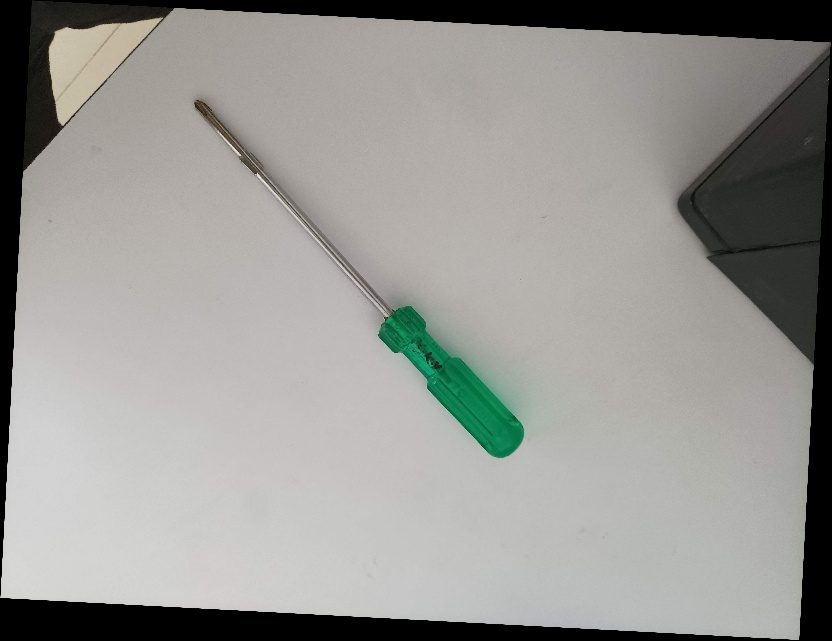screwdriver: (189, 96, 525, 459)
